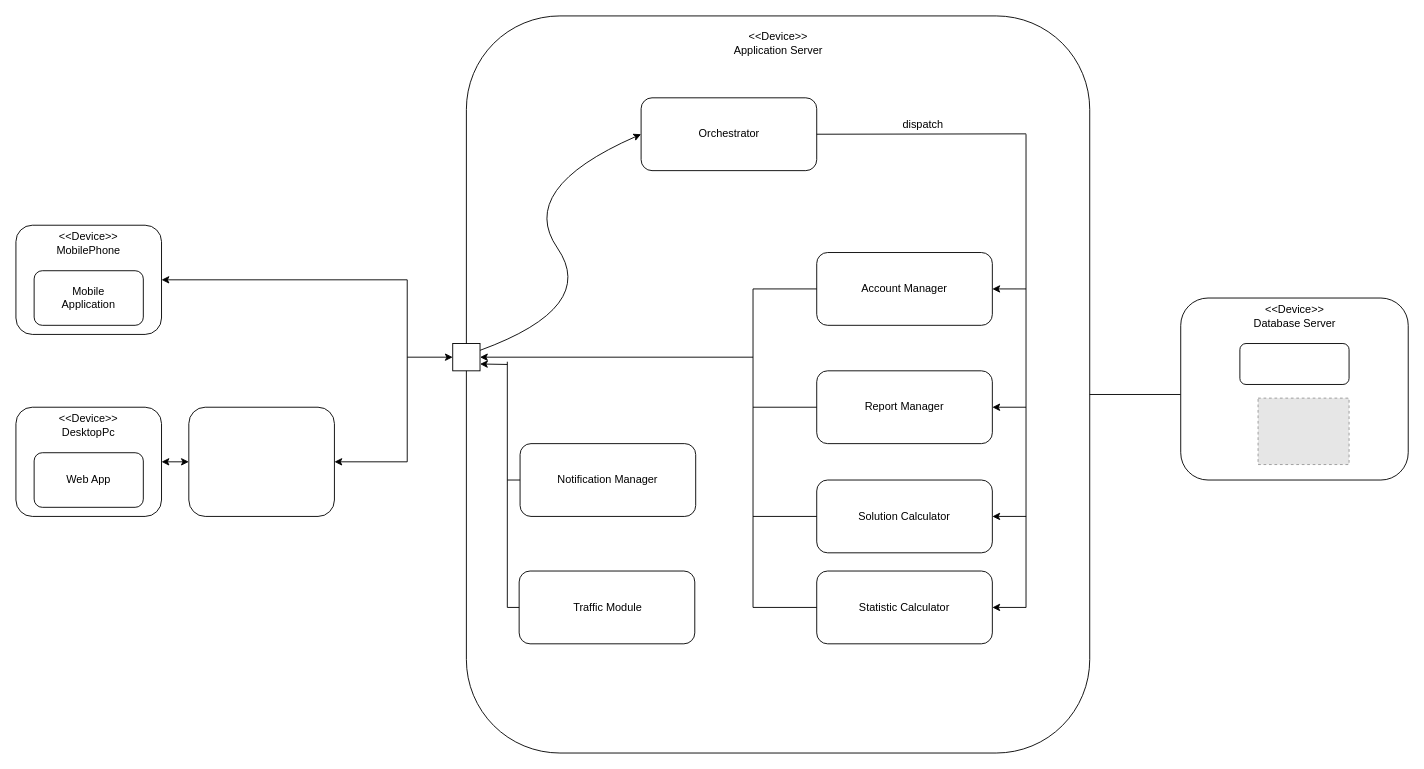
This 1424x769 diagram has some shape labels left out. Grey dashed boxes stand in for pictures. Here are the shapes that lost their labels. From the top down, the box of each, then its label:
(1239, 343, 1349, 384): DBMS
(188, 406, 334, 516): <<Device>> Web Server
